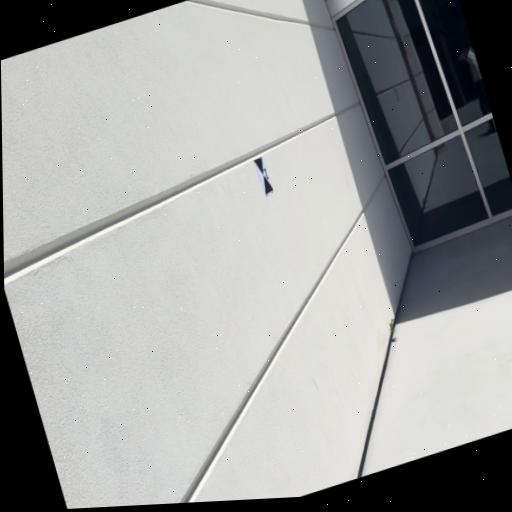target7: (253, 157, 273, 195)
